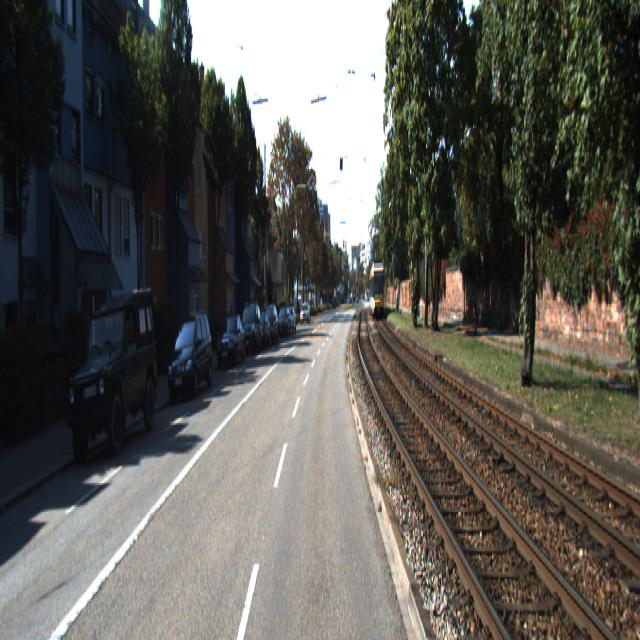Car: (66, 284, 160, 469), (167, 313, 214, 407), (216, 314, 246, 370), (239, 303, 262, 359), (369, 266, 386, 323)
